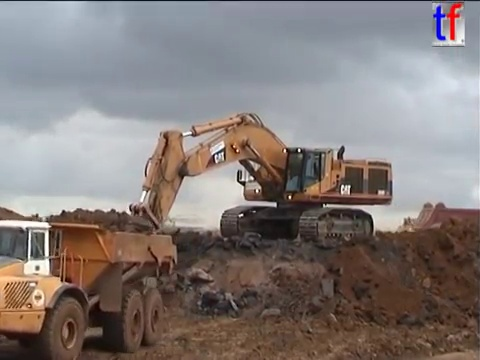excavator: (117, 110, 395, 291)
motor grader: (393, 215, 425, 238)
truck: (1, 215, 180, 360), (411, 201, 480, 242)
